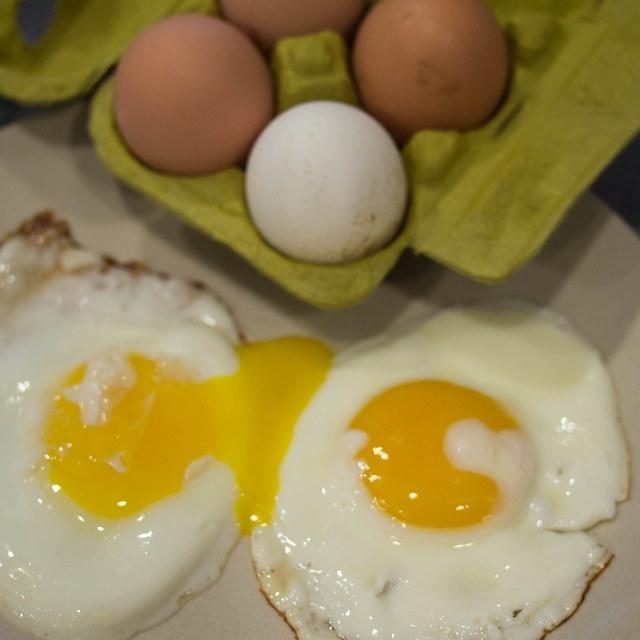egg: (244, 99, 408, 264), (112, 12, 273, 175), (352, 0, 509, 135), (216, 0, 364, 49)
